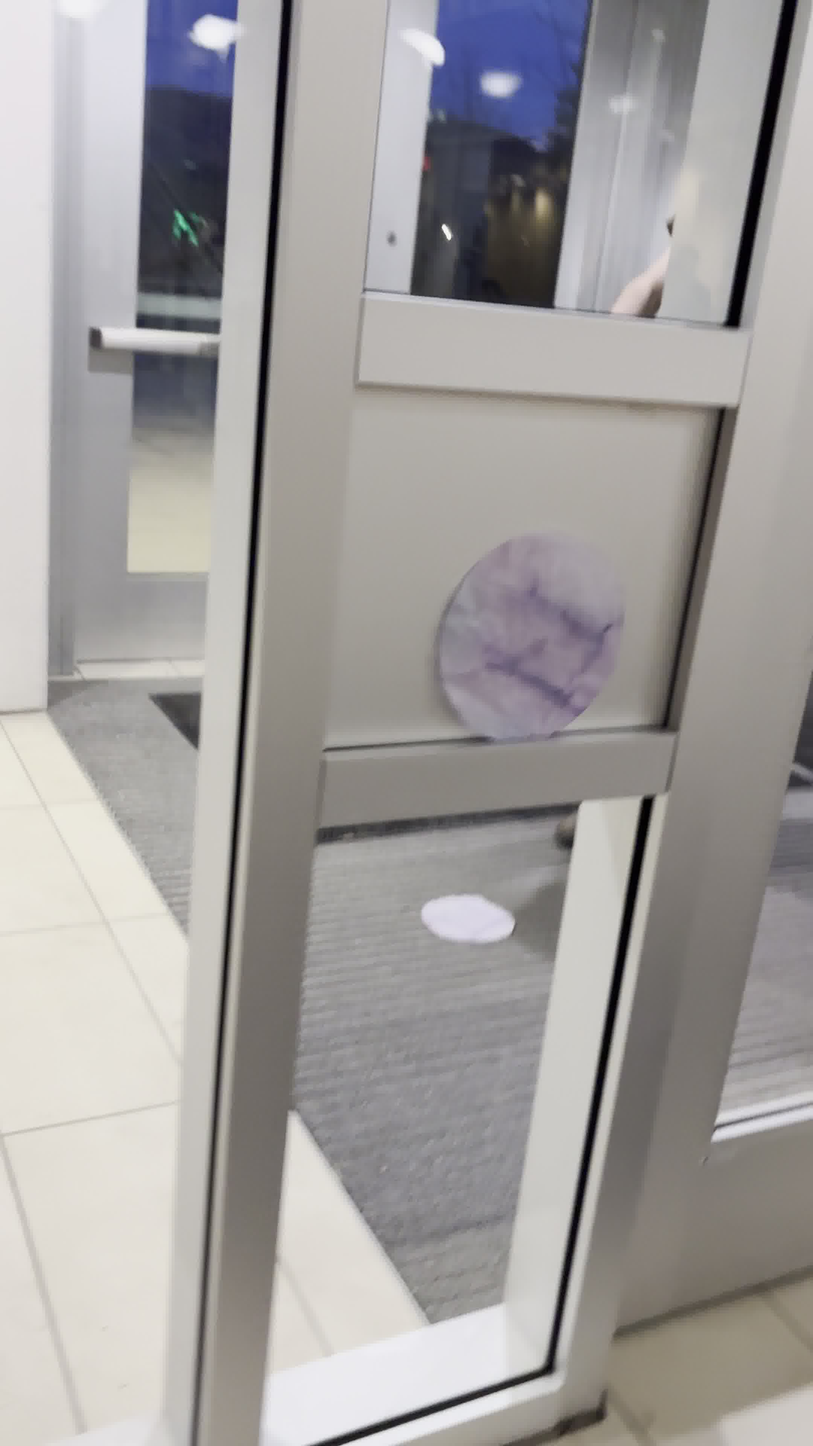Target: (437, 531, 626, 744)
